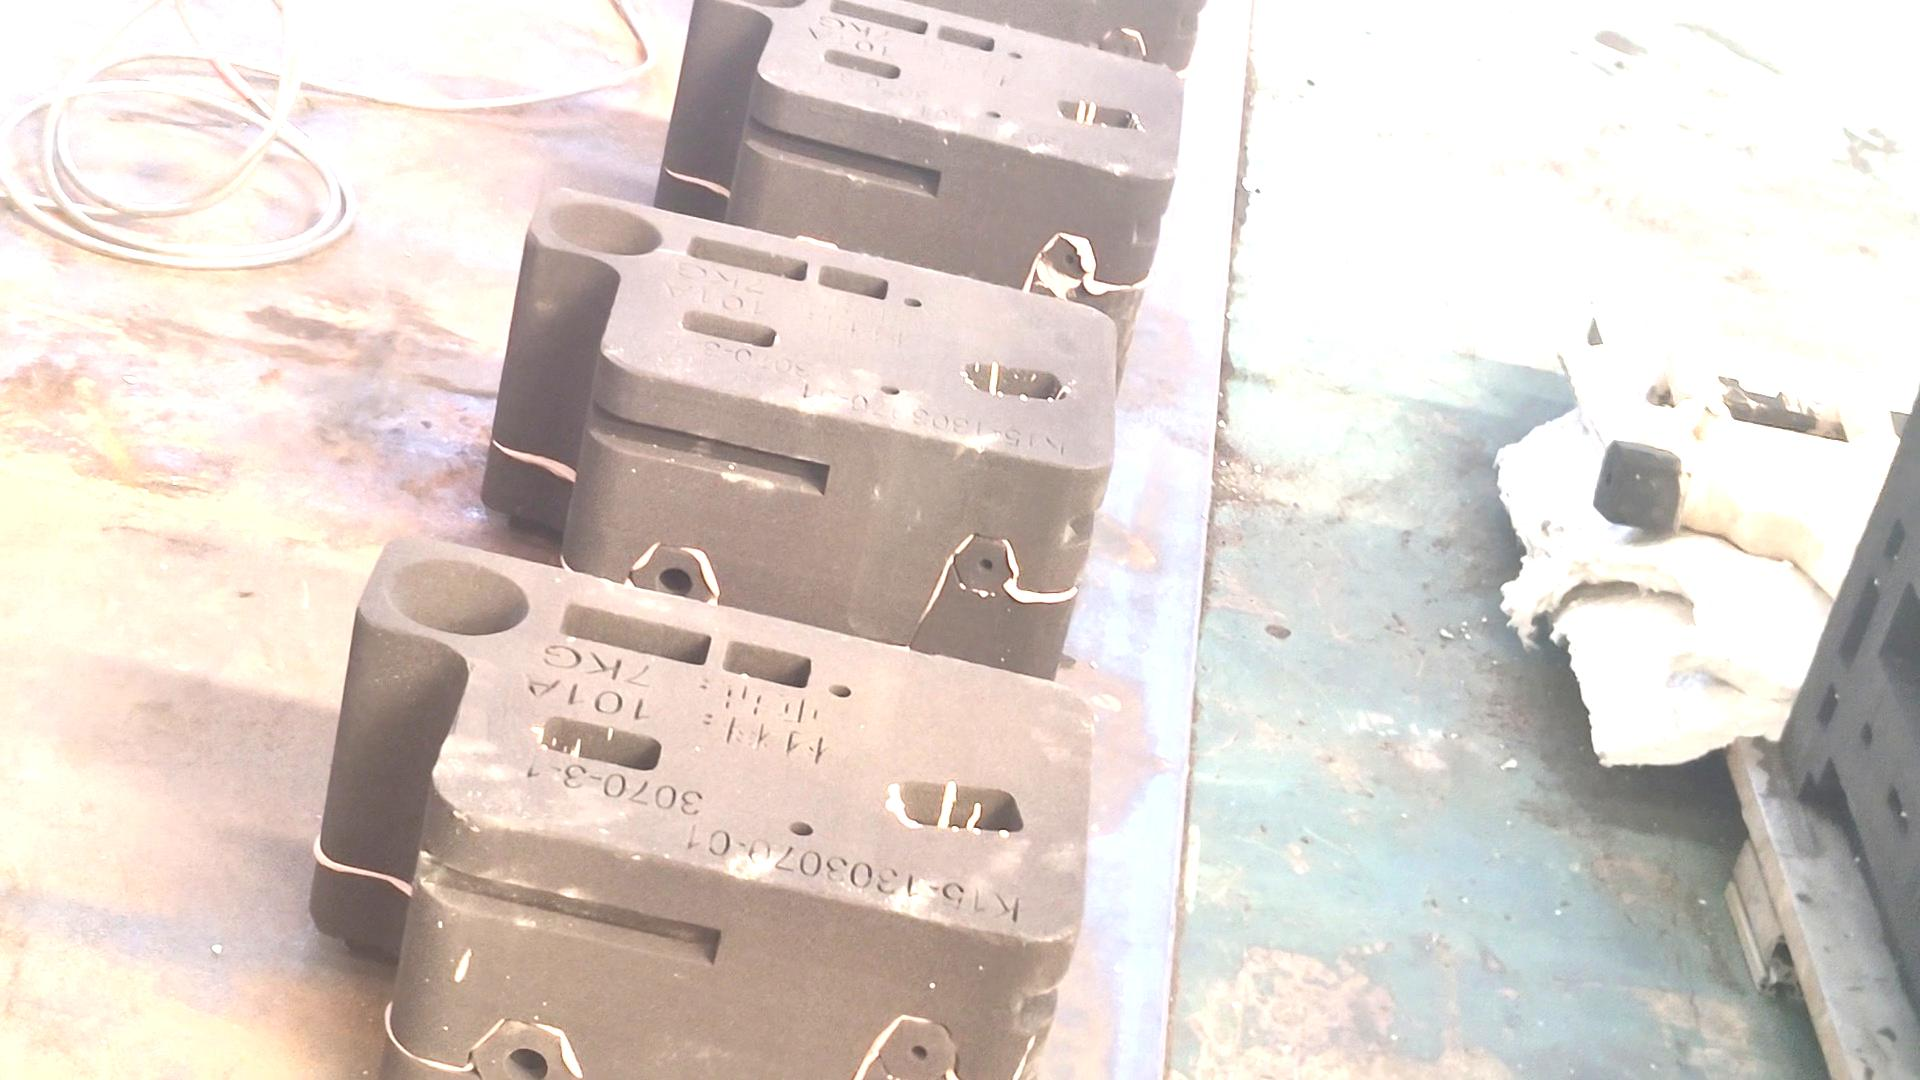pouring hole: (384, 555, 531, 637), (545, 203, 666, 257), (698, 1, 808, 15)
